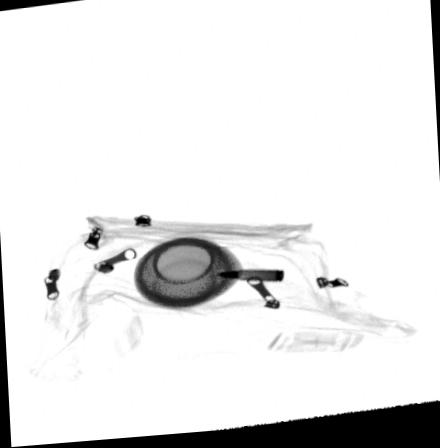Bullet: (210, 273, 286, 287)
